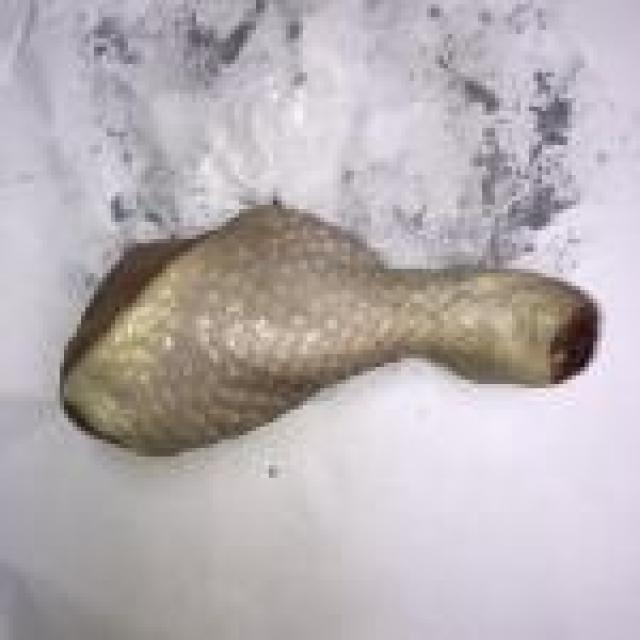leg: (47, 203, 604, 470)
